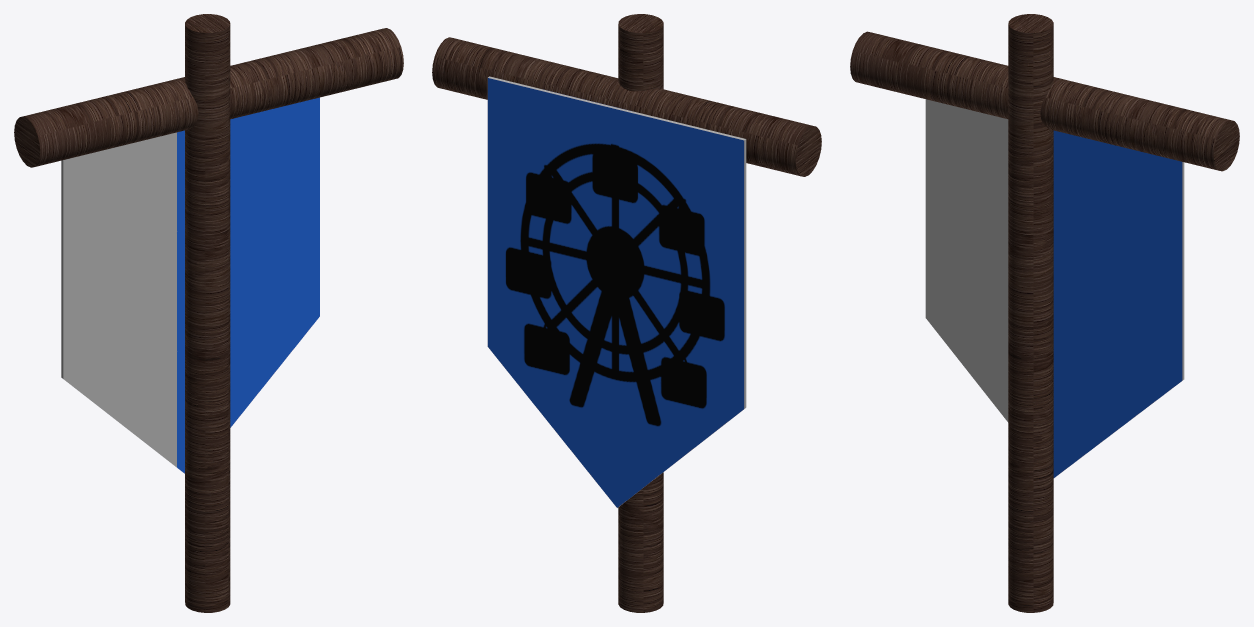
The model's file is placarodagigante.obj.
3 renders of one model, left to right at view 1: azimuth 30°, elevation 25°; view 2: azimuth 150°, elevation 25°; view 3: azimuth 330°, elevation 25°, orthographic.
Visible parts, largest first — view 1: estandarte_brinquedos_group polySurface56 polySurface1; view 2: estandarte_brinquedos_group polySurface56 polySurface1; view 3: estandarte_brinquedos_group polySurface56 polySurface1.
Boxes of the visible parts, x1=… form: estandarte_brinquedos_group polySurface56 polySurface1: x1=14, y1=14, x2=403, y2=612; estandarte_brinquedos_group polySurface56 polySurface1: x1=432, y1=14, x2=821, y2=612; estandarte_brinquedos_group polySurface56 polySurface1: x1=850, y1=14, x2=1239, y2=612.
Size of the model in its own units: 0.3165 by 0.4824 by 0.0497.
Materials: 1 (1 with a texture image).
